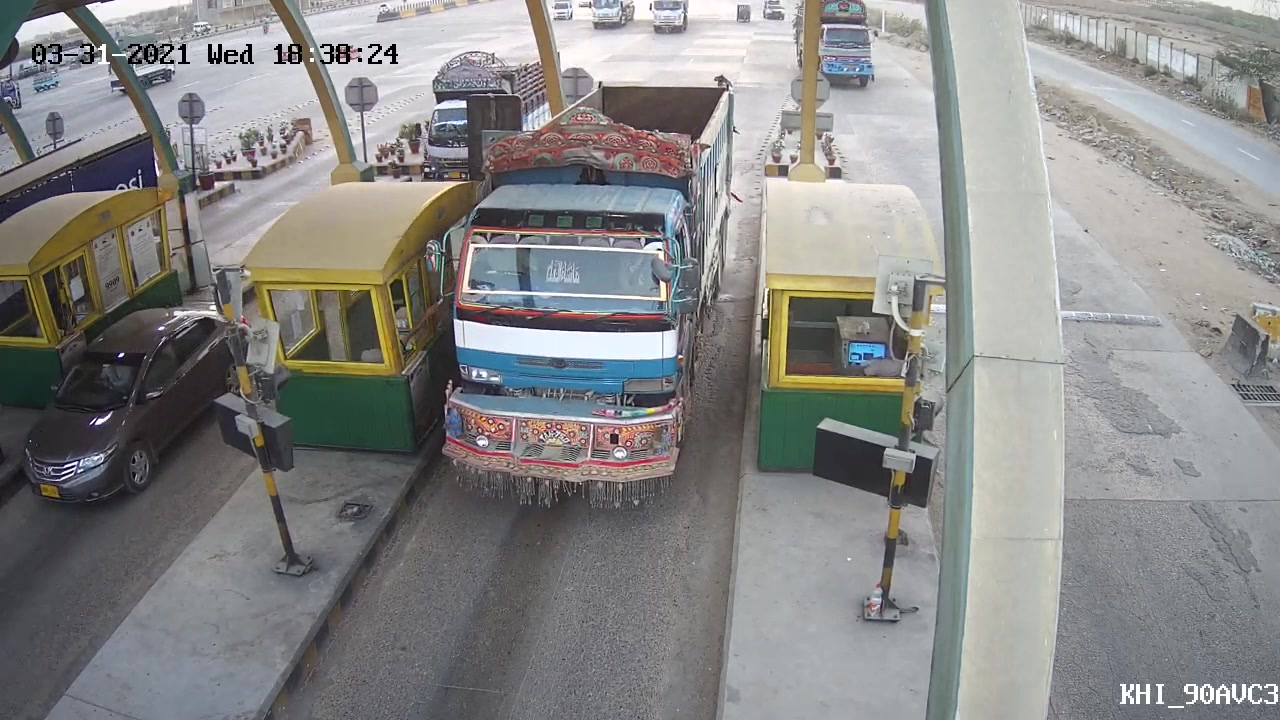F5: (429, 71, 748, 513)
